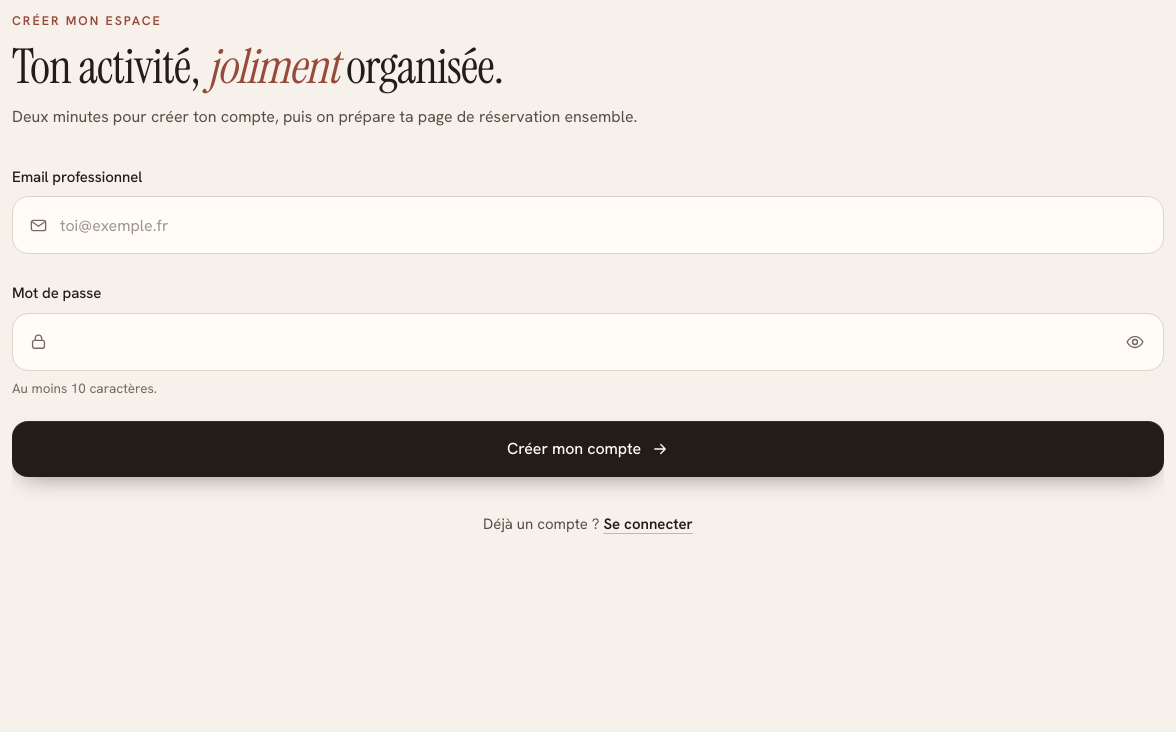
Test: SignupForm › answers email_taken with a neutral message
In the field labelled "Email professionnel": (606, 225) [48, 197, 1163, 253], type "Mila@Studio.fr"
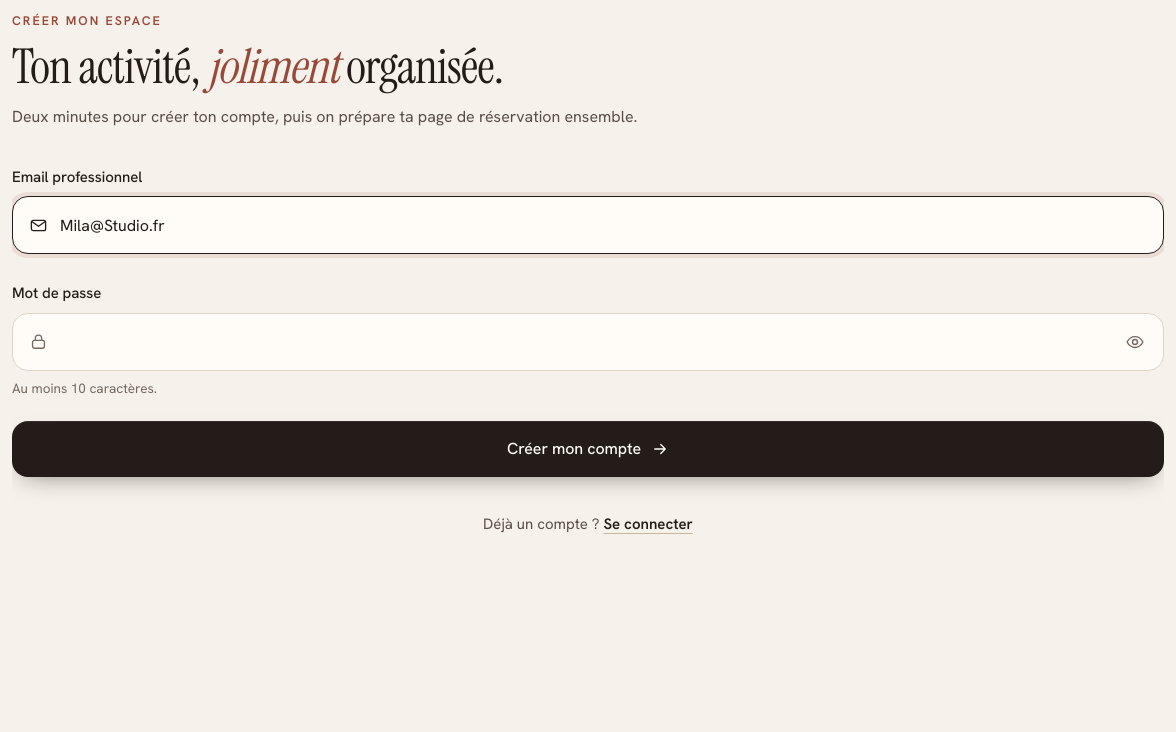
In the password field labelled "Mot de passe": (580, 342) [48, 314, 1113, 370], type "correct-horse-battery"
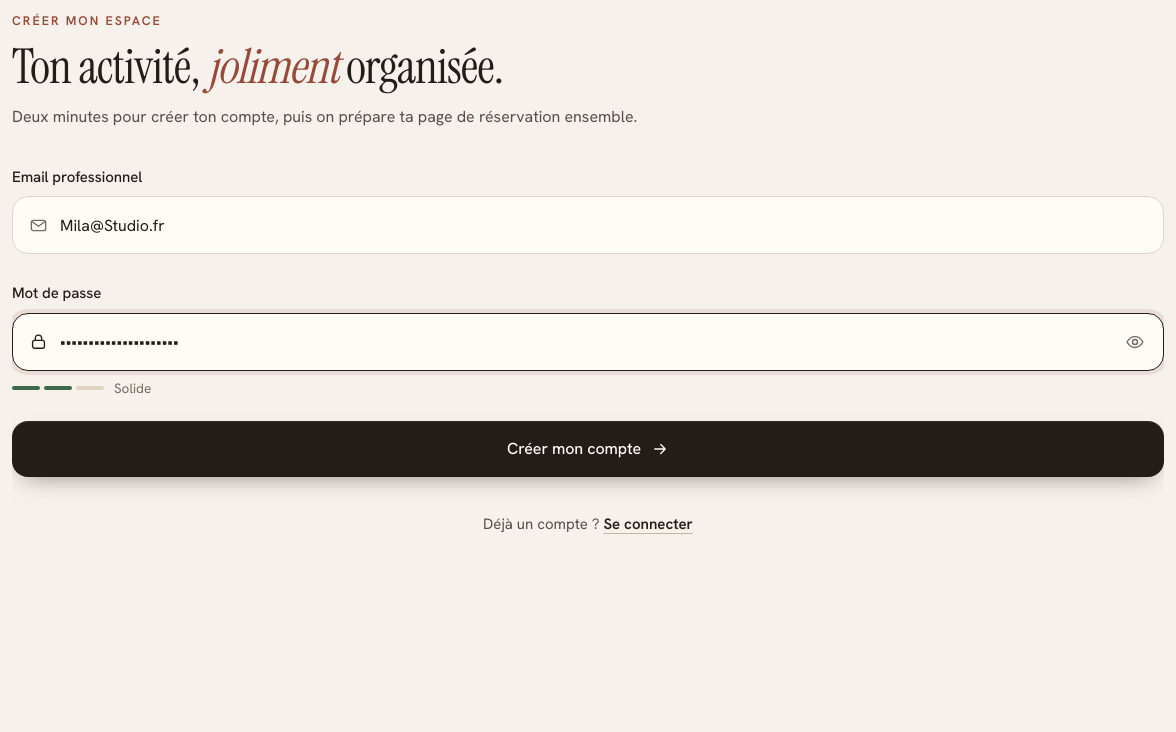
Click the button "Créer mon compte": (588, 449) [12, 421, 1164, 477]
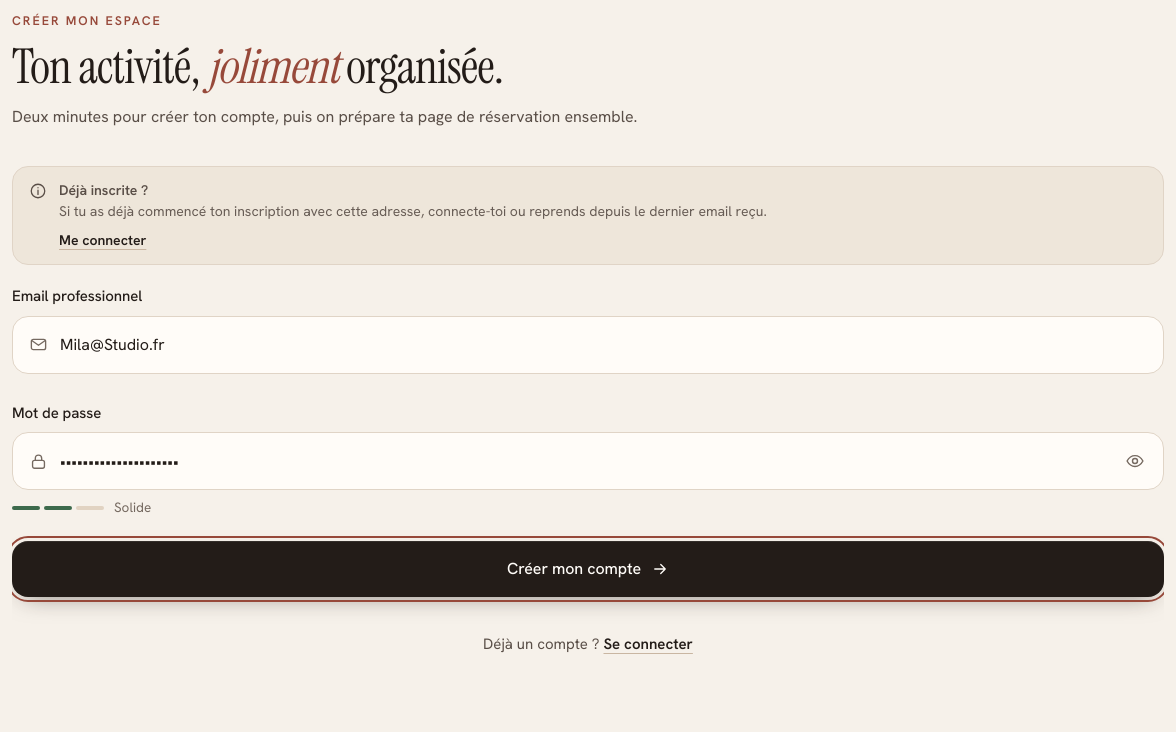
Now the text "Si tu as déjà commencé ton inscription" is shown, box [59, 202, 767, 220]
Now the link "Me connecter" is shown, box [59, 231, 146, 249]
